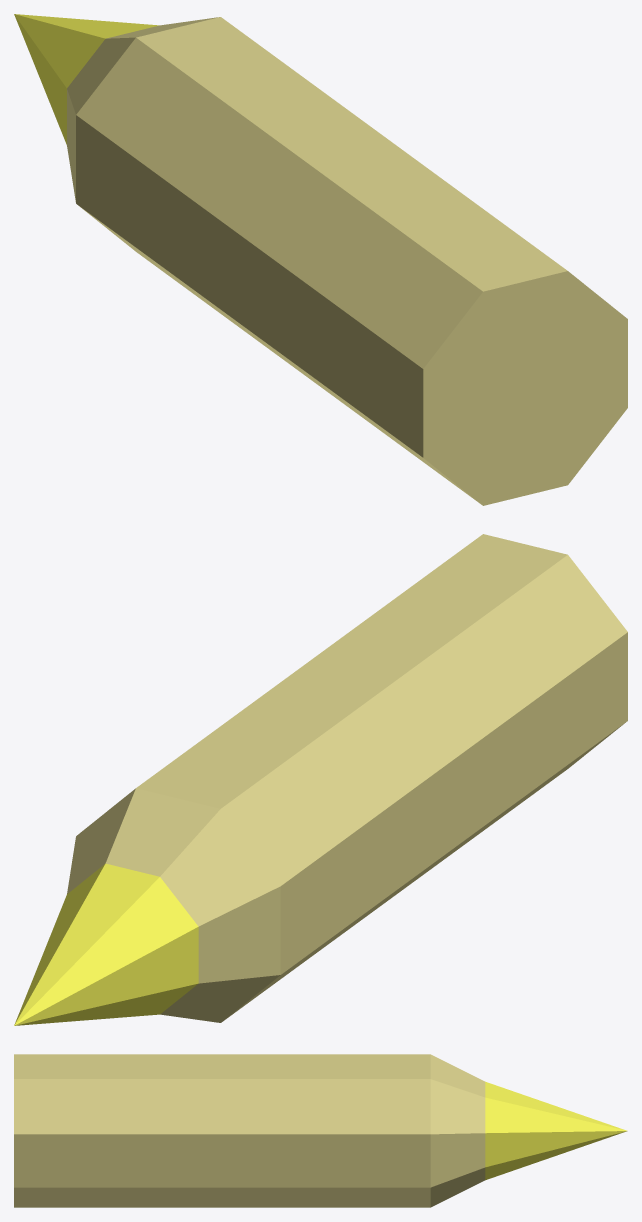
The model's file is ce_ammo_rifle_he_a.obj.
3 views of the same model, one above another, from view 1: azimuth 30°, elevation 25°; view 2: azimuth 150°, elevation 25°; view 3: azimuth 270°, elevation 25° (orthographic). The views are drawn at different scales.
Visible parts, largest first — view 1: ce_ammo_rifle_he_a_0, ce_ammo_rifle_he_a_2, ce_ammo_rifle_he_a_1; view 2: ce_ammo_rifle_he_a_0, ce_ammo_rifle_he_a_1, ce_ammo_rifle_he_a_2; view 3: ce_ammo_rifle_he_a_0, ce_ammo_rifle_he_a_2, ce_ammo_rifle_he_a_1.
Boxes of the visible parts, box(x1,y1,x2,y2) form: ce_ammo_rifle_he_a_0: box(76, 17, 627, 505); ce_ammo_rifle_he_a_2: box(14, 14, 159, 144); ce_ammo_rifle_he_a_1: box(67, 17, 219, 201); ce_ammo_rifle_he_a_0: box(136, 534, 627, 1020); ce_ammo_rifle_he_a_1: box(67, 788, 280, 1022); ce_ammo_rifle_he_a_2: box(14, 863, 198, 1025); ce_ammo_rifle_he_a_0: box(14, 1054, 430, 1207); ce_ammo_rifle_he_a_2: box(485, 1081, 627, 1180); ce_ammo_rifle_he_a_1: box(430, 1054, 485, 1207).
Bounding box in the file's own units: 0.1294 × 0.1294 × 0.56.
